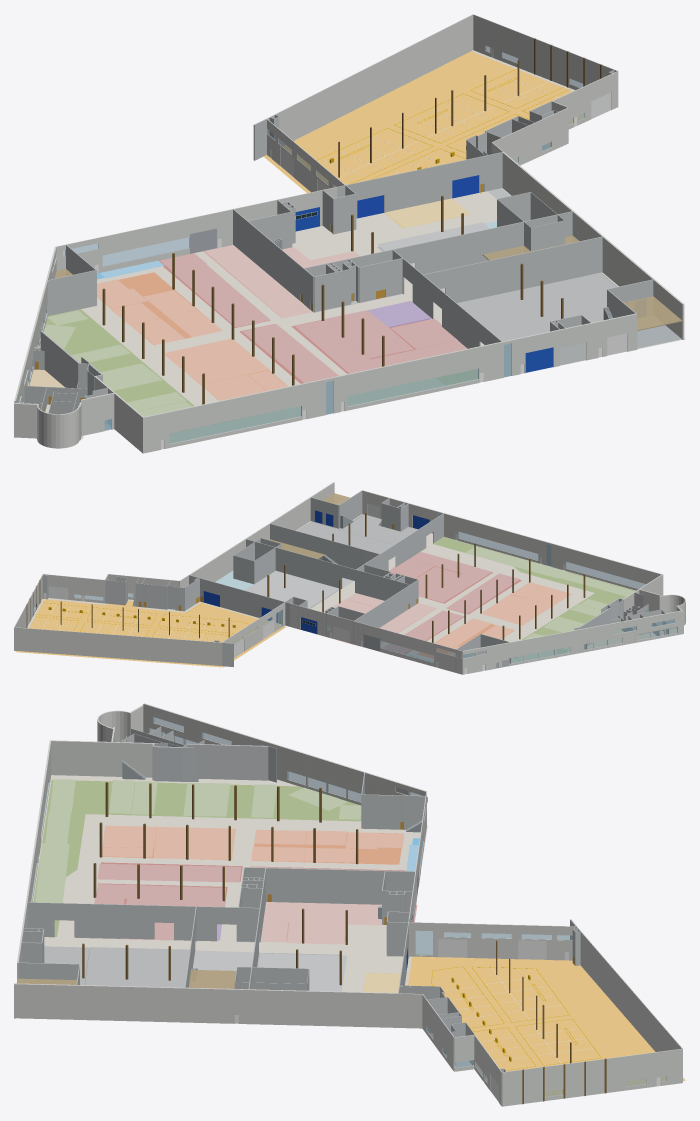
3 renders of one model, top to bottom at view 1: azimuth 30°, elevation 25°; view 2: azimuth 150°, elevation 25°; view 3: azimuth 270°, elevation 25°, orthographic. The views are drawn at different scales.
Parts seen in each view (by area): view 1: skG, l2, wcG; view 2: skG, wcG, l2; view 3: skG, l2, wcG.
Part boxes in pixels (box(x1,y1,x2,y2)): skG: box(14, 14, 684, 453); l2: box(29, 50, 685, 439); wcG: box(37, 188, 616, 443); skG: box(14, 482, 685, 674); wcG: box(215, 514, 634, 662); l2: box(14, 514, 676, 674); skG: box(14, 703, 682, 1106); l2: box(14, 775, 685, 1096); wcG: box(35, 779, 422, 992).
Bounding box in the file's own units: 206 × 8.9 × 159.
